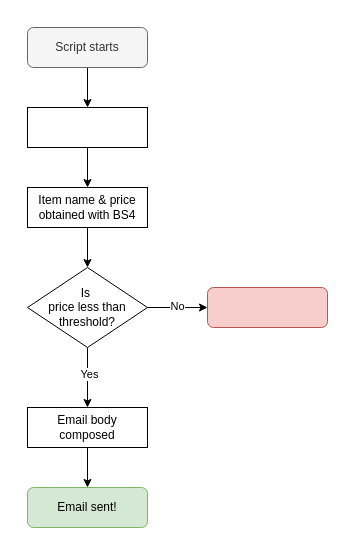
This 354x554 diagram has some shape labels left out. Each missing label, with the centre of its shape:
Script exits: (x=267, y=307)
URL passed through Requests: (x=87, y=127)
